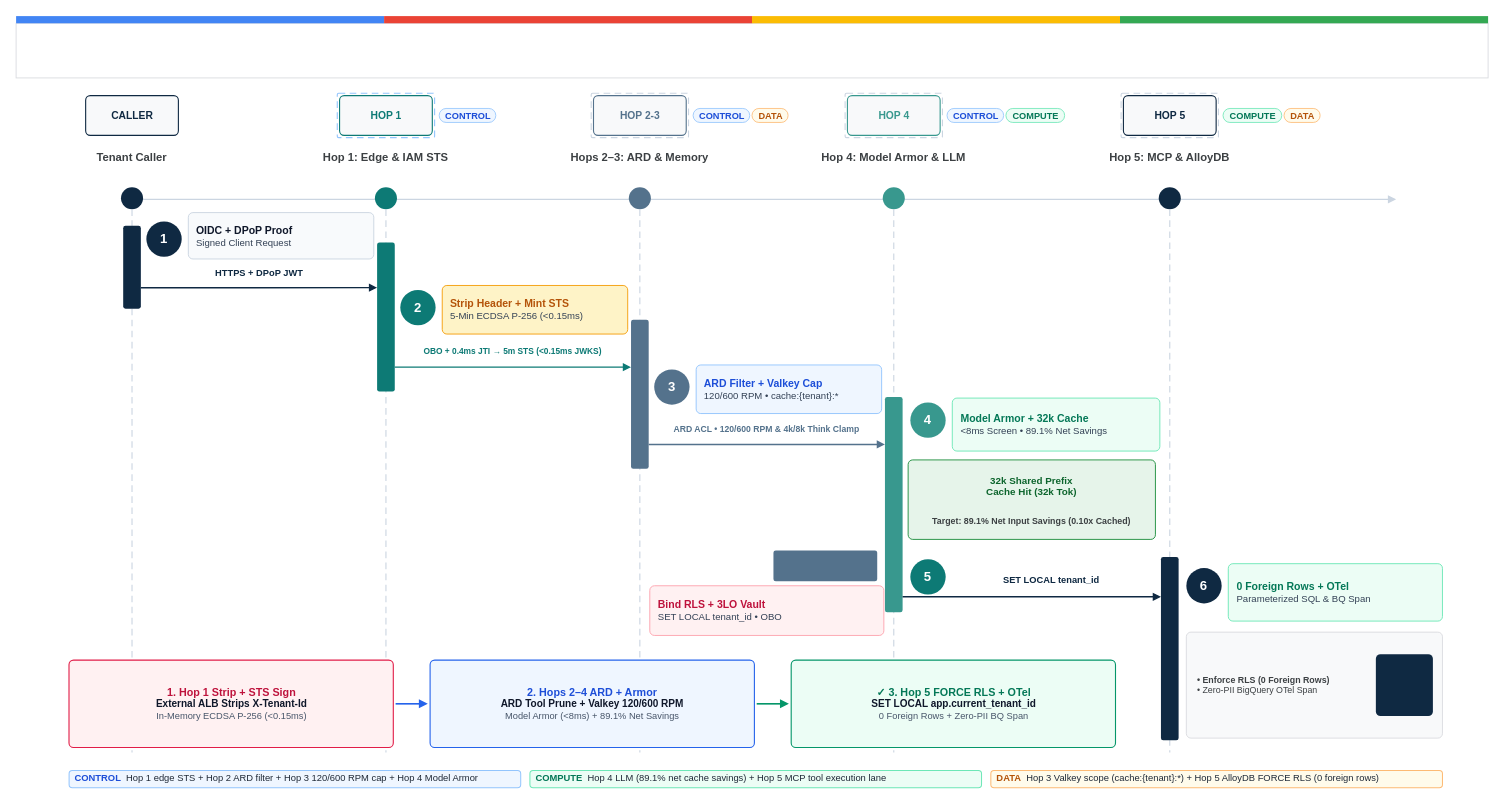
This 1504x804 diagram has some shape labels left out. The centre of each missing label's shape, as x and y in pixels:
OTel 200: the point at 1403,685
RLS + 3LO: the point at 825,565
WS1 - PART 1 - 5-Hop Cryptographic Request & Token Exchange: the point at 751,50
